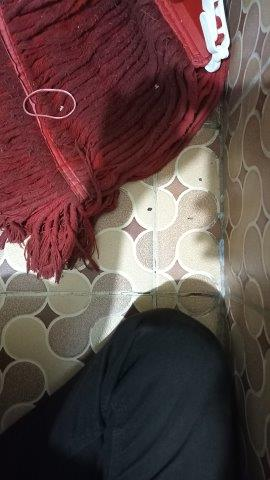karet: (23, 88, 77, 119)
